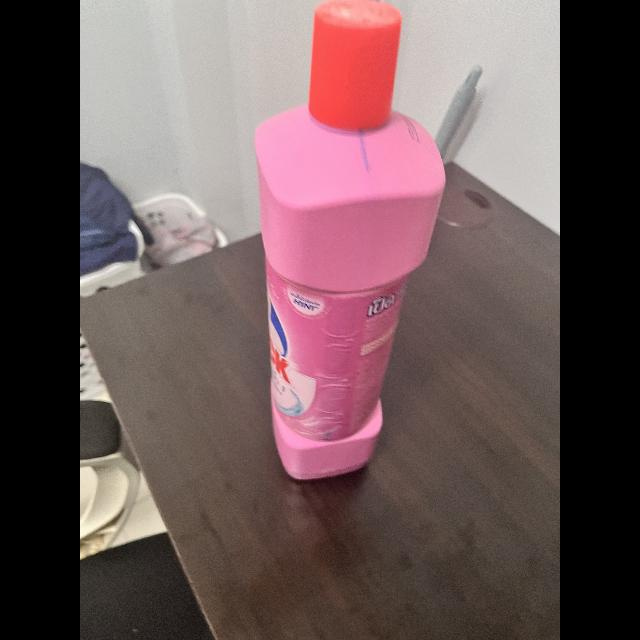chemical_plastic_bottle: (248, 0, 452, 480)
